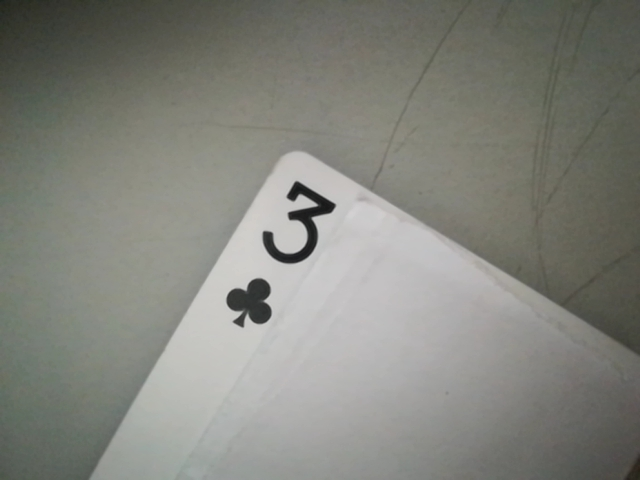mh 3: (220, 175, 351, 335)
